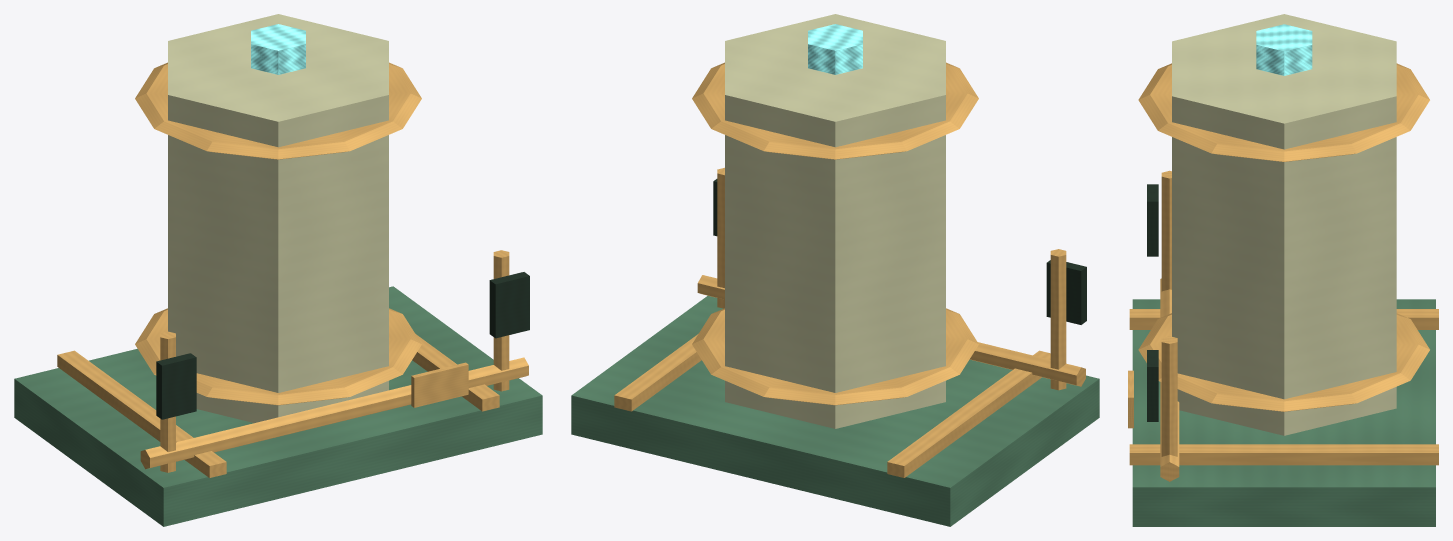
Rendered from atlas100-s006-a02.lod1.glb.
The picture shows the model from 3 angles, left to right: view 1: azimuth 30°, elevation 25°; view 2: azimuth 150°, elevation 25°; view 3: azimuth 270°, elevation 25°; orthographic projection.
Parts seen in each view (by area): view 1: atlas100-s006-a02:part-003, atlas100-s006-a02:part-000, atlas100-s006-a02:part-005, atlas100-s006-a02:part-012, atlas100-s006-a02:part-004, atlas100-s006-a02:part-001, atlas100-s006-a02:part-006, atlas100-s006-a02:part-009, atlas100-s006-a02:part-011, atlas100-s006-a02:part-013, atlas100-s006-a02:part-002, atlas100-s006-a02:part-010 (+1 smaller); view 2: atlas100-s006-a02:part-003, atlas100-s006-a02:part-000, atlas100-s006-a02:part-005, atlas100-s006-a02:part-004, atlas100-s006-a02:part-001, atlas100-s006-a02:part-012, atlas100-s006-a02:part-006, atlas100-s006-a02:part-002, atlas100-s006-a02:part-008, atlas100-s006-a02:part-009, atlas100-s006-a02:part-010; view 3: atlas100-s006-a02:part-003, atlas100-s006-a02:part-000, atlas100-s006-a02:part-005, atlas100-s006-a02:part-004, atlas100-s006-a02:part-002, atlas100-s006-a02:part-006, atlas100-s006-a02:part-010, atlas100-s006-a02:part-008, atlas100-s006-a02:part-001, atlas100-s006-a02:part-012, atlas100-s006-a02:part-009, atlas100-s006-a02:part-011.
Boxes of the visible parts, x1,y1,x2,y2 form: atlas100-s006-a02:part-003: (168,14,388,422); atlas100-s006-a02:part-000: (14,286,542,526); atlas100-s006-a02:part-005: (135,62,421,159); atlas100-s006-a02:part-012: (140,357,528,469); atlas100-s006-a02:part-004: (135,308,421,405); atlas100-s006-a02:part-001: (57,350,226,477); atlas100-s006-a02:part-006: (251,24,305,74); atlas100-s006-a02:part-009: (156,353,196,419); atlas100-s006-a02:part-011: (489,272,529,338); atlas100-s006-a02:part-013: (411,362,468,407); atlas100-s006-a02:part-002: (412,334,499,411); atlas100-s006-a02:part-010: (493,250,509,391); atlas100-s006-a02:part-003: (725,14,945,428); atlas100-s006-a02:part-000: (571,296,1099,526); atlas100-s006-a02:part-005: (692,62,978,159); atlas100-s006-a02:part-004: (692,308,978,405); atlas100-s006-a02:part-001: (887,350,1050,477); atlas100-s006-a02:part-012: (697,275,1085,386); atlas100-s006-a02:part-006: (808,24,862,74); atlas100-s006-a02:part-002: (614,334,701,411); atlas100-s006-a02:part-008: (1050,249,1066,390); atlas100-s006-a02:part-009: (1046,260,1086,324); atlas100-s006-a02:part-010: (717,167,724,308); atlas100-s006-a02:part-003: (1172,14,1396,435); atlas100-s006-a02:part-000: (1132,299,1435,526); atlas100-s006-a02:part-005: (1138,63,1429,161); atlas100-s006-a02:part-004: (1138,313,1429,411); atlas100-s006-a02:part-002: (1129,444,1438,465); atlas100-s006-a02:part-006: (1256,24,1312,75); atlas100-s006-a02:part-010: (1161,336,1177,456); atlas100-s006-a02:part-008: (1161,170,1171,291); atlas100-s006-a02:part-001: (1129,309,1438,329); atlas100-s006-a02:part-012: (1160,278,1179,481); atlas100-s006-a02:part-009: (1147,184,1158,256); atlas100-s006-a02:part-011: (1147,350,1158,421).
Size of the model in its own units: 2.64 by 2.59 by 1.85.
5 materials, 5 textured.
